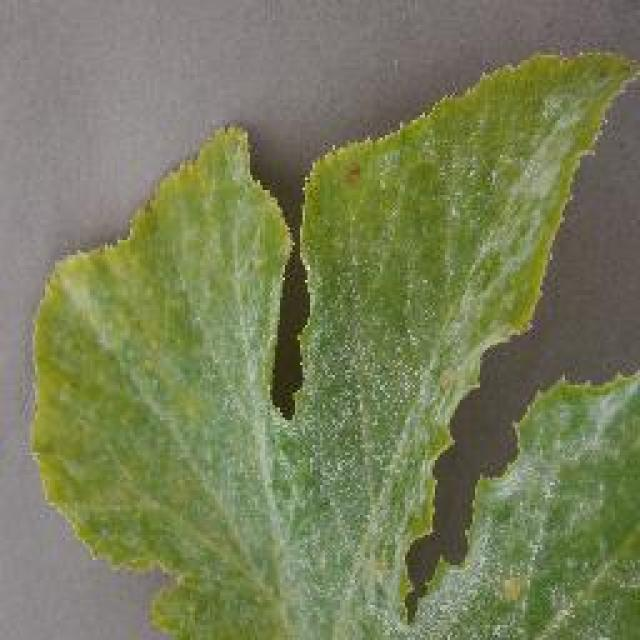Squ_Powdery_mildew: (84, 194, 478, 612)
